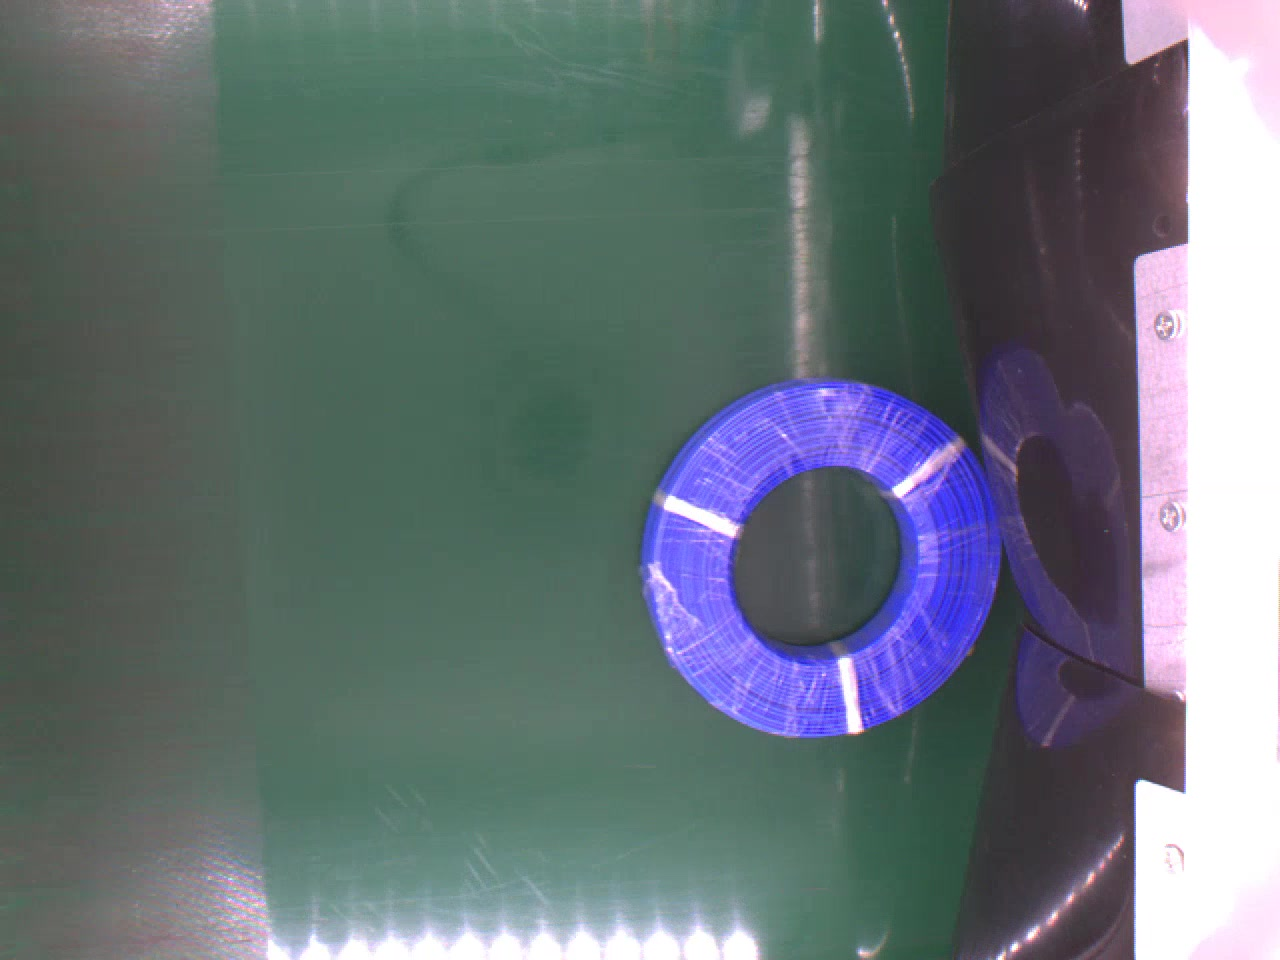blue: (639, 377, 1007, 738)
